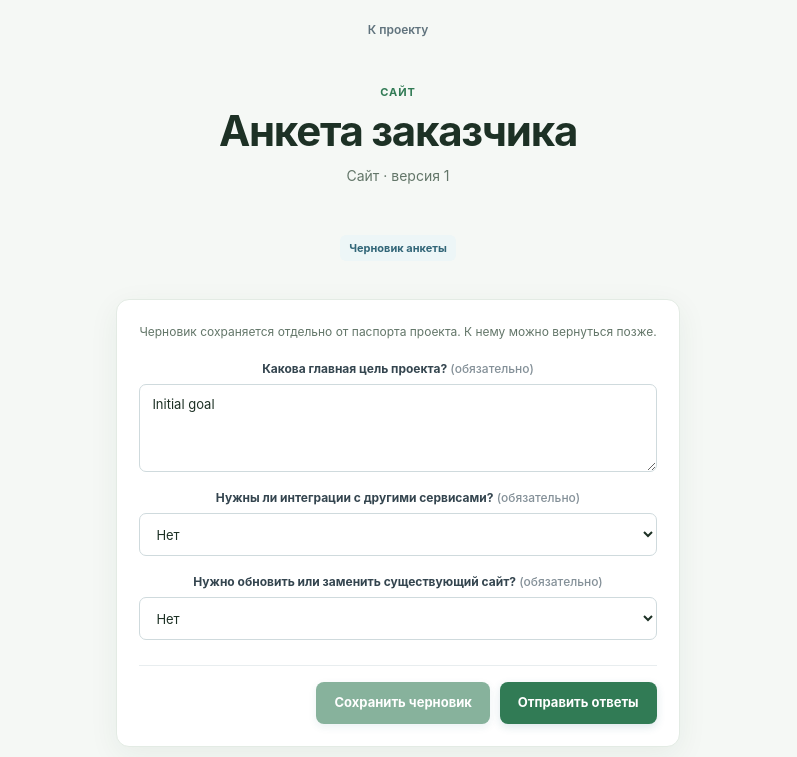
Scenario: customer refreshes a stale draft version without losing answers before retrying submit
The width and height of the screenshot is (797, 757).
Replace the text in the text box labelled "Какова главная цель проекта? (обязательно)" with "Reviewed goal": (398, 428) x1=139 y1=384 x2=657 y2=472
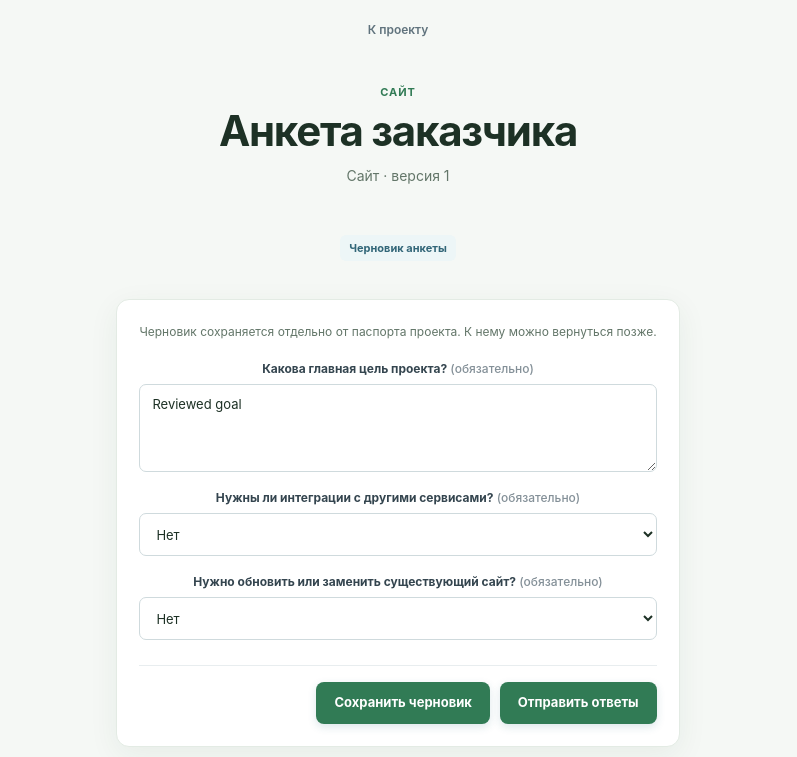
Click the button "Отправить ответы": (578, 703) x1=500 y1=682 x2=657 y2=724
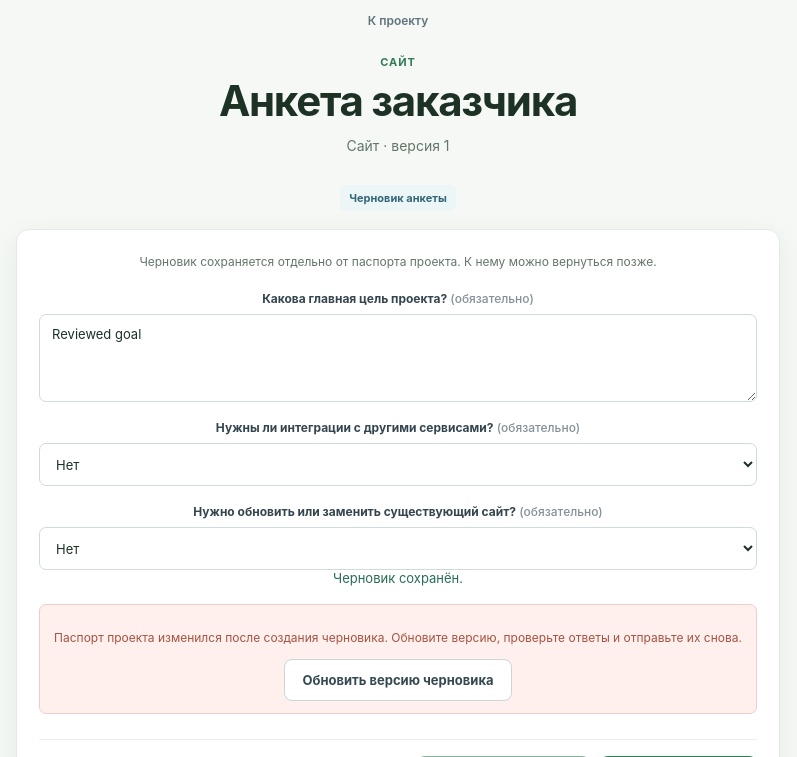
Now the text "Паспорт проекта изменился после создания черновика" is shown, box x1=54 y1=630 x2=742 y2=645
Click the button "Обновить версию черновика": (398, 680) x1=284 y1=659 x2=512 y2=701
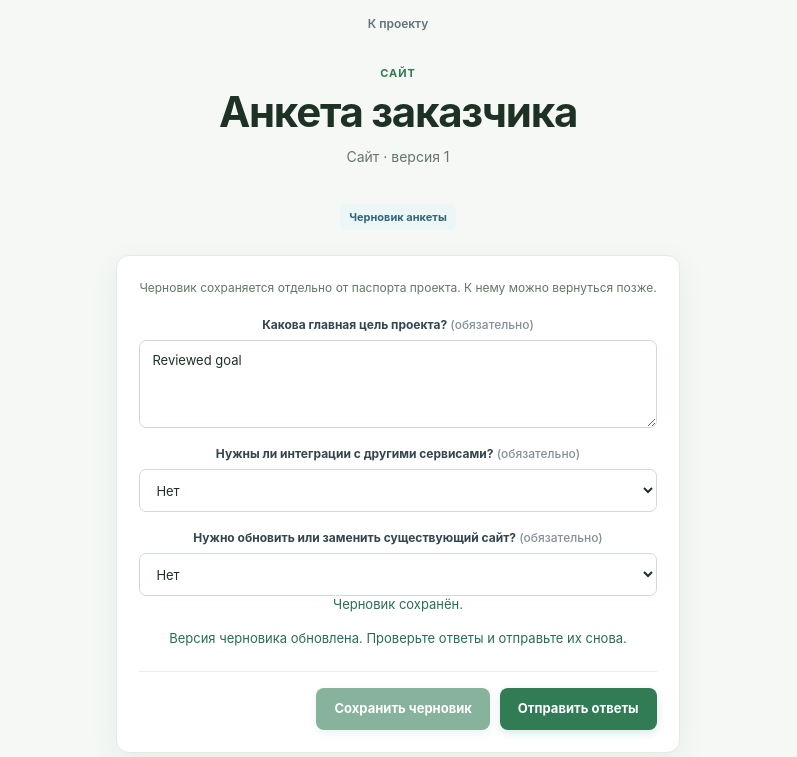
Now the text "Версия черновика обновлена. Проверьте ответы и отправьте их снова." is shown, box x1=139 y1=630 x2=657 y2=646
Click the button "Отправить ответы": (578, 709) x1=500 y1=688 x2=657 y2=730
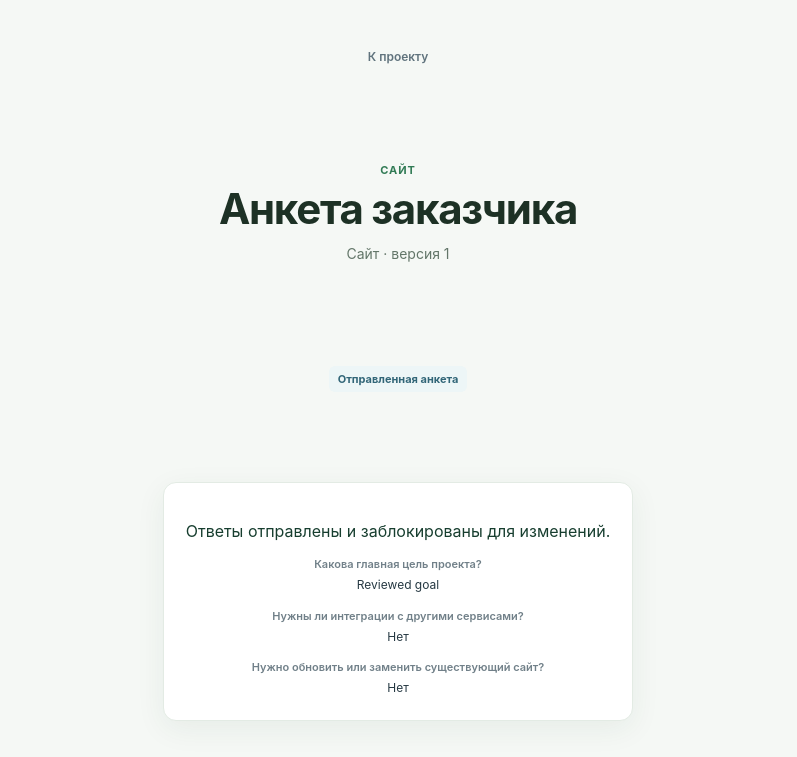
Now the text "Ответы отправлены и заблокированы для изменений." is shown, box x1=186 y1=521 x2=610 y2=541
